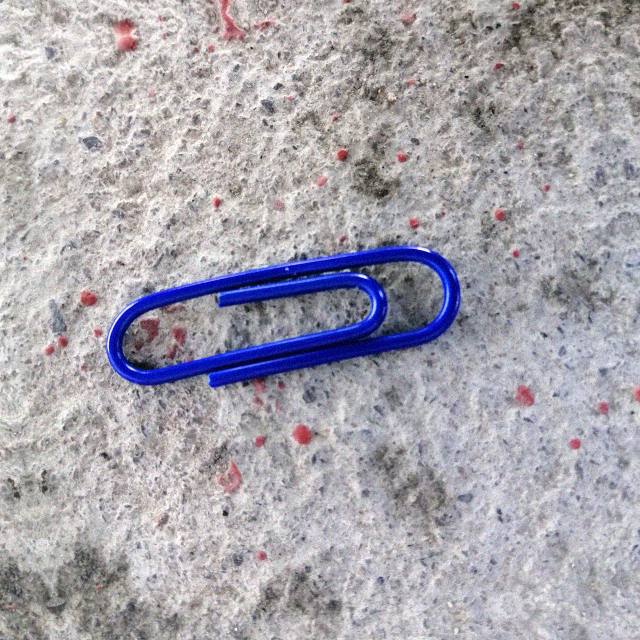pin: (103, 230, 462, 405)
